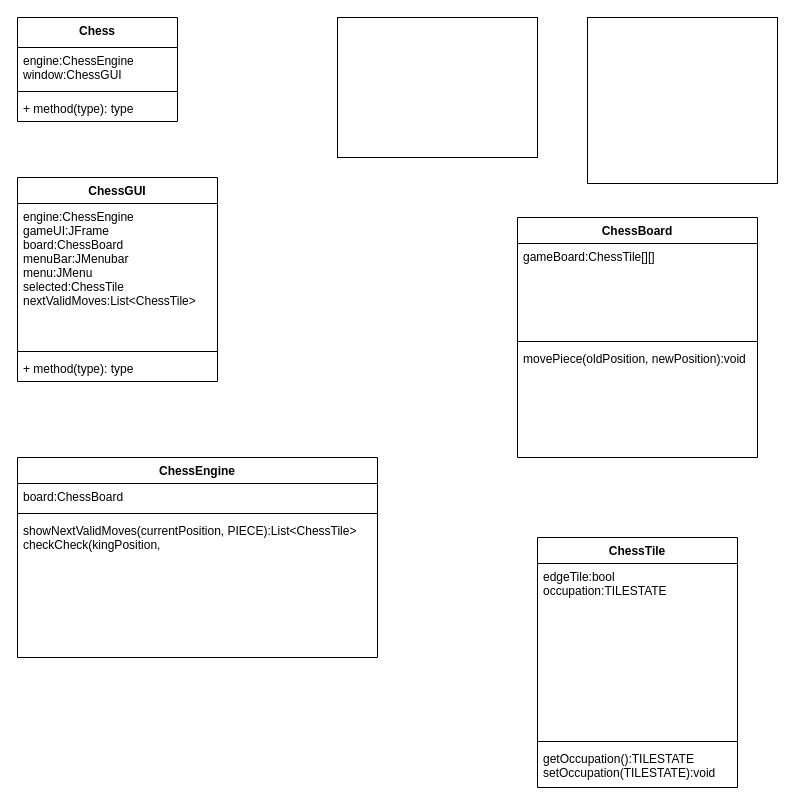
Some shapes in this 795 by 808 pixel diagram are drawn without their labels. The shapes that lost their labels are listed below. From the top down, each one's centre as x and y in pixels, then its label:
At (x=437, y=87): "<<Enum>> TILESTATE FREE, BLACK, WHITE".
At (x=682, y=100): "<<Enum>> PIECE PAWN, BISHOP, KNIGHT, ROOK, QUEEN, KING".
